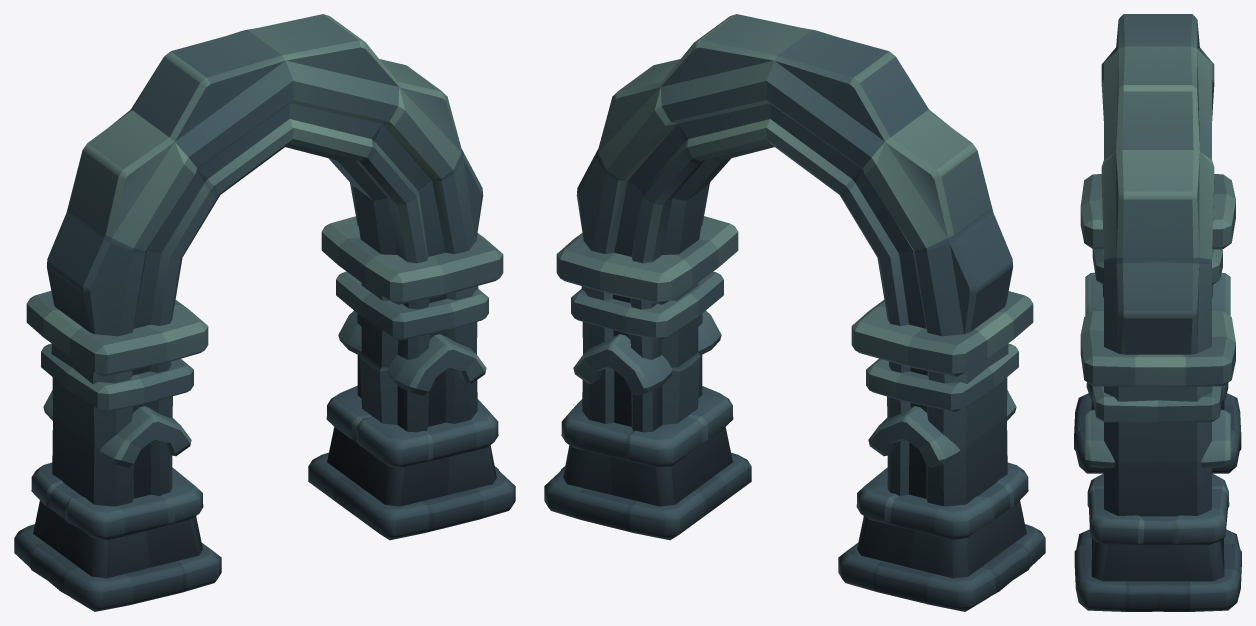
File: archway.fbx
3 views of the same model, side by side, from view 1: azimuth 30°, elevation 25°; view 2: azimuth 150°, elevation 25°; view 3: azimuth 270°, elevation 25° (orthographic). The views are drawn at different scales.
Visible parts, largest first — view 1: archway; view 2: archway; view 3: archway.
Part boxes in pixels (x1=…): archway: x1=14, y1=14, x2=515, y2=611; archway: x1=544, y1=14, x2=1045, y2=611; archway: x1=1074, y1=14, x2=1241, y2=611.
Bounding box in the file's own units: 520 × 558 × 181.
